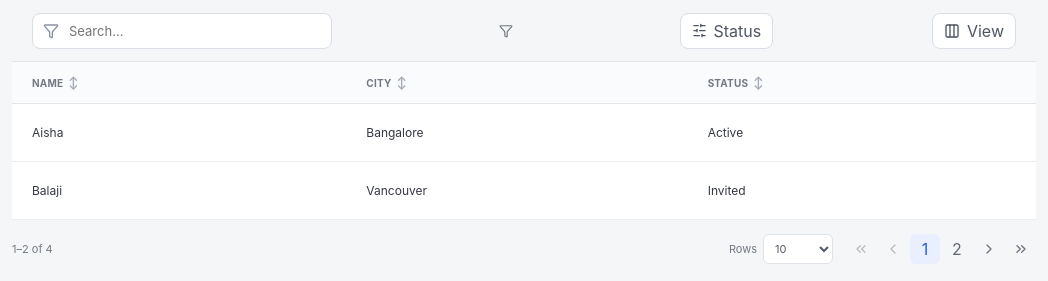
Test: DataTable › filters through global search and resets to the first page
Click the button named "Next page". click: [989, 249]
box: x1=974 y1=234 x2=1004 y2=264
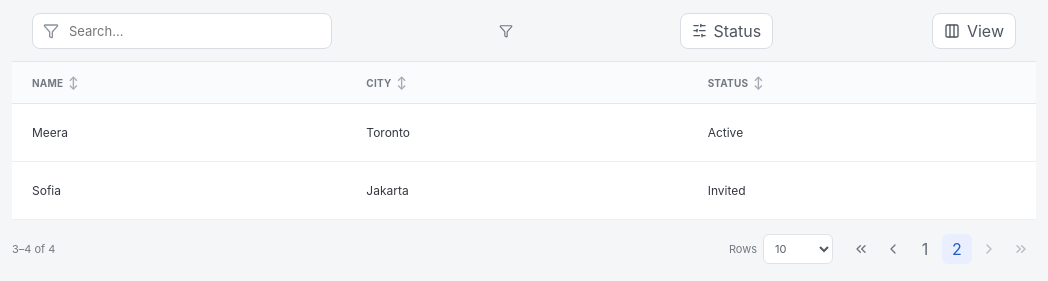
Type "Aisha" into the field with placeholder "Search…". click: [194, 30]
box: x1=67 y1=22 x2=321 y2=40
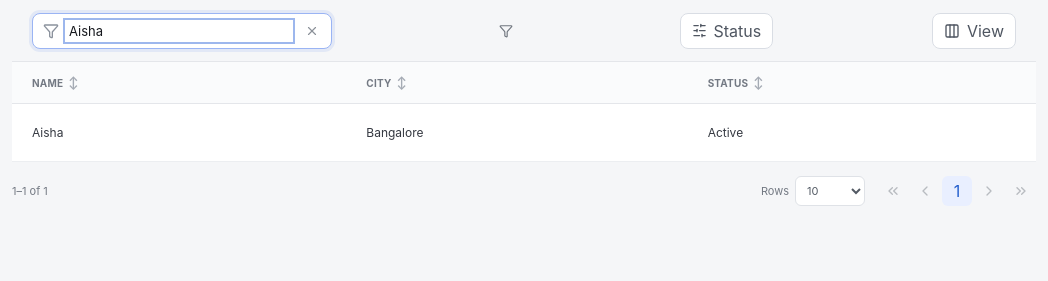
Now the text "Aisha" is shown, box x1=12 y1=104 x2=353 y2=162
Now the text "1–1 of 1" is shown, box x1=12 y1=184 x2=48 y2=198
